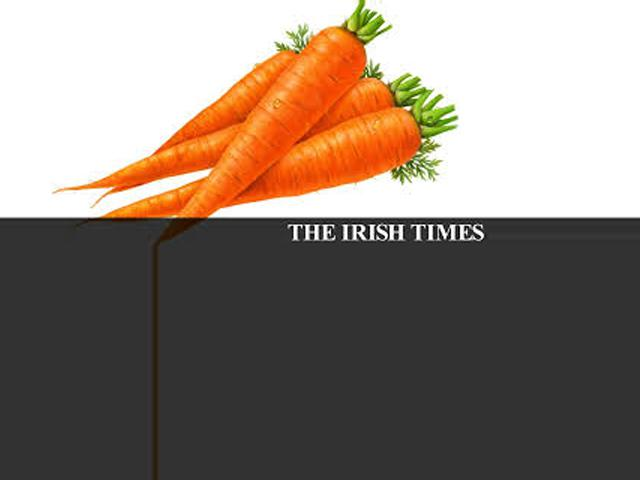carrot: (192, 111, 454, 246)
